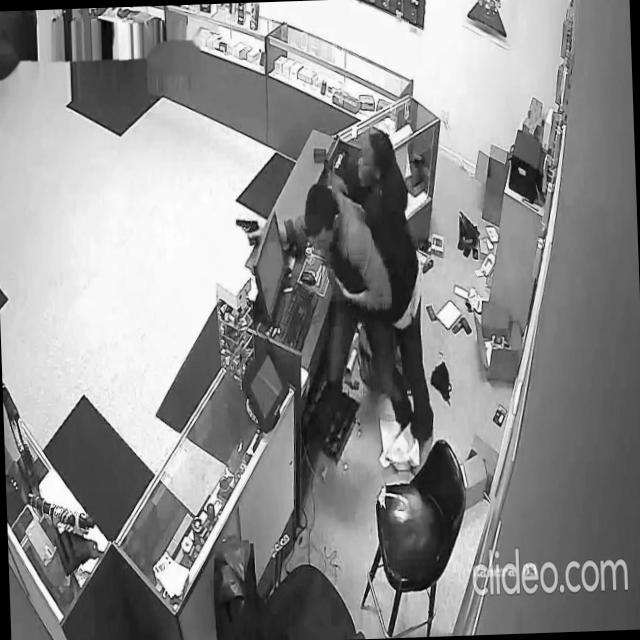gun: (234, 216, 260, 246)
person: (325, 126, 437, 481)
person with a gun: (234, 177, 418, 470)
